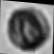correct: (7, 5, 51, 54)
